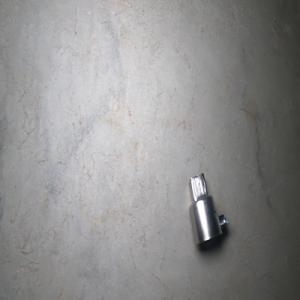MetalPart: (187, 171, 229, 246)
